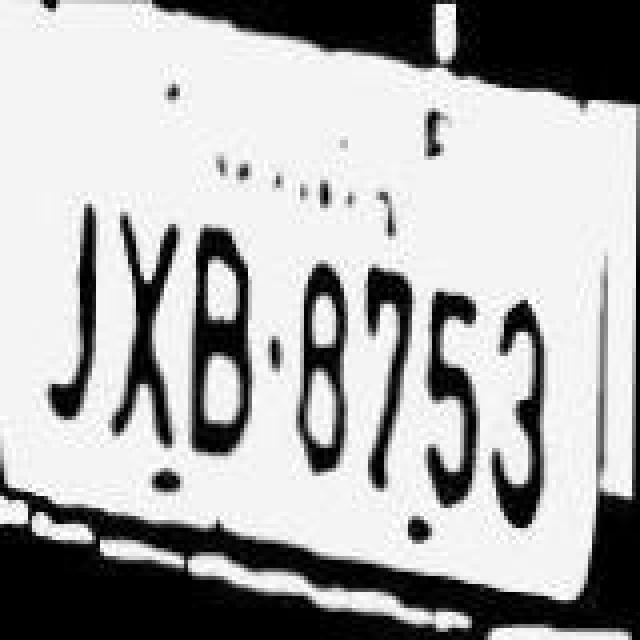3: (490, 300, 566, 540)
5: (416, 276, 488, 520)
7: (356, 248, 420, 508)
8: (286, 240, 354, 500)
B: (180, 204, 260, 464)
J: (38, 190, 114, 434)
X: (102, 186, 186, 446)
